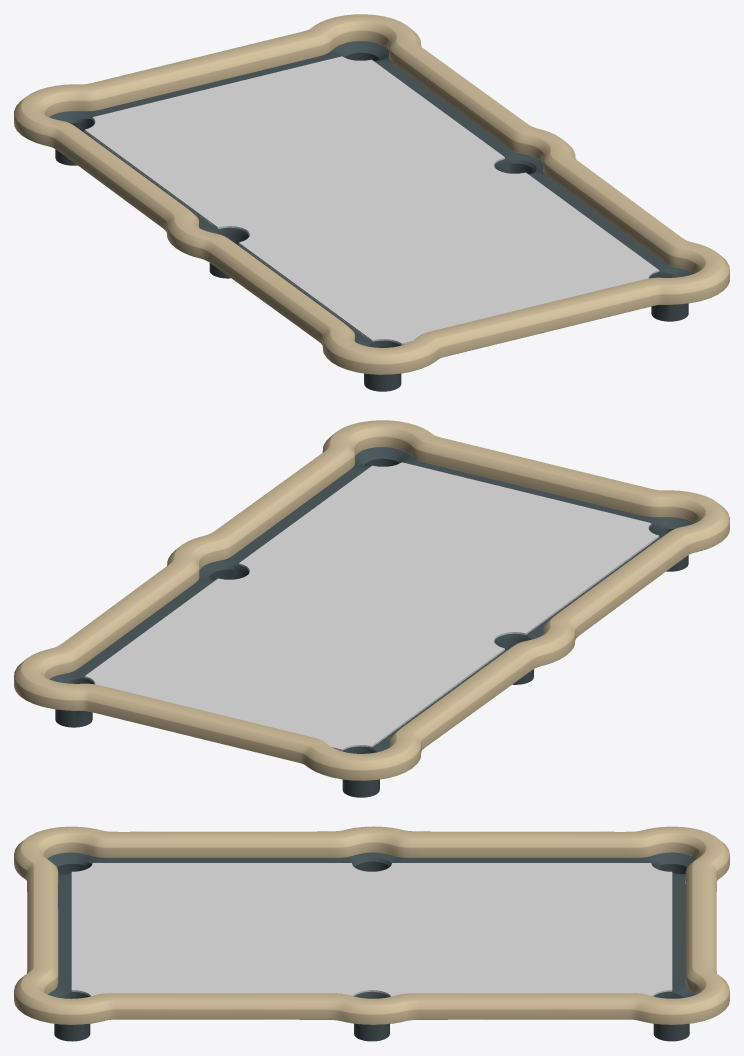
The model's file is level.fbx.
3 renders of one model, top to bottom at view 1: azimuth 30°, elevation 25°; view 2: azimuth 150°, elevation 25°; view 3: azimuth 270°, elevation 25°, orthographic. The views are drawn at different scales.
Parts seen in each view (by area): view 1: Plane, straight.001, straight.005, straight.003, straight.002, corner_hole.001, corner_hole.003, corner_hole, corner_hole.002, straight.004, straight, side_hole.001 (+1 smaller); view 2: Plane, straight.005, straight.001, straight.003, straight.002, corner_hole, corner_hole.002, corner_hole.001, corner_hole.003, straight.004, straight, side_hole.001 (+1 smaller); view 3: Plane, straight.004, straight, straight.003, straight.002, corner_hole.002, corner_hole.003, straight.005, straight.001, corner_hole, corner_hole.001, side_hole (+1 smaller).
Part boxes in pixels (bbox=[...]): Plane: bbox=[84, 56, 659, 344]; straight.001: bbox=[97, 32, 316, 111]; straight.005: bbox=[436, 280, 650, 355]; straight.003: bbox=[540, 157, 679, 261]; straight.002: bbox=[388, 46, 526, 148]; corner_hole.001: bbox=[317, 319, 448, 391]; corner_hole.003: bbox=[639, 236, 729, 321]; corner_hole: bbox=[14, 82, 113, 165]; corner_hole.002: bbox=[299, 14, 421, 70]; straight.004: bbox=[209, 240, 357, 340]; straight: bbox=[58, 129, 203, 227]; side_hole.001: bbox=[494, 123, 575, 182]; Plane: bbox=[84, 462, 659, 750]; straight.005: bbox=[427, 438, 646, 517]; straight.001: bbox=[93, 686, 307, 761]; straight.003: bbox=[216, 452, 356, 555]; straight.002: bbox=[65, 564, 202, 666]; corner_hole: bbox=[295, 725, 426, 797]; corner_hole.002: bbox=[14, 642, 104, 727]; corner_hole.001: bbox=[630, 488, 729, 571]; corner_hole.003: bbox=[322, 420, 443, 476]; straight.004: bbox=[538, 535, 685, 635]; straight: bbox=[386, 648, 532, 746]; side_hole.001: bbox=[167, 530, 249, 589]; Plane: bbox=[71, 863, 672, 996]; straight.004: bbox=[119, 831, 329, 862]; straight: bbox=[418, 831, 623, 862]; straight.003: bbox=[120, 993, 328, 1019]; straight.002: bbox=[418, 993, 623, 1019]; corner_hole.002: bbox=[623, 964, 729, 1041]; corner_hole.003: bbox=[14, 964, 120, 1041]; straight.005: bbox=[27, 868, 71, 980]; straight.001: bbox=[672, 868, 716, 980]; corner_hole: bbox=[624, 826, 729, 884]; corner_hole.001: bbox=[14, 826, 119, 884]; side_hole: bbox=[328, 826, 418, 871].
Size of the model in its own units: 42.28 by 5.31 by 69.1.
